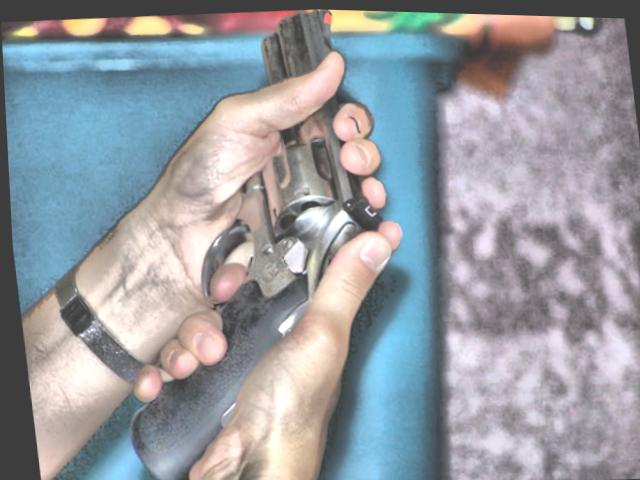pistol: (74, 2, 405, 480)
